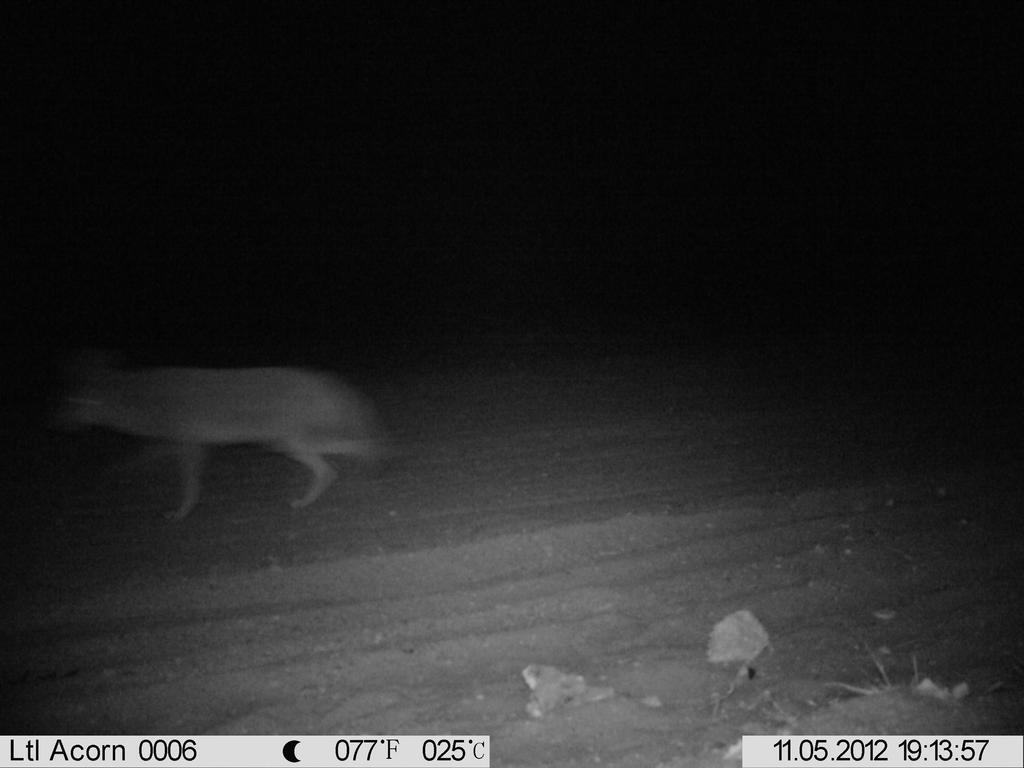coyote: (30, 336, 415, 532)
